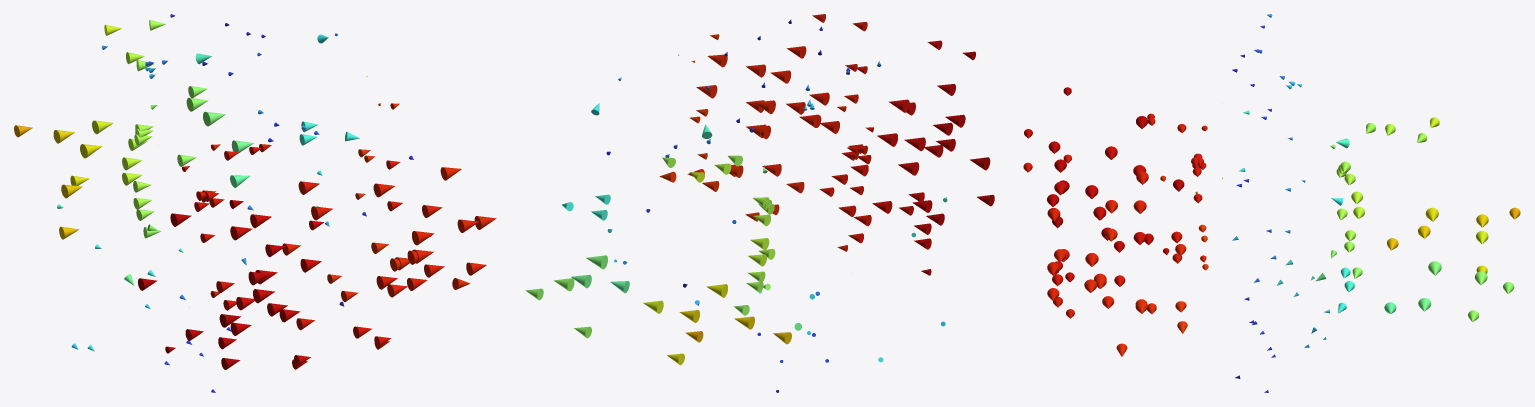
File: LineasCorrienteH2-O2_mh2-5.58_V-1.glb
The picture shows the model from 3 angles, left to right: view 1: azimuth 30°, elevation 25°; view 2: azimuth 150°, elevation 25°; view 3: azimuth 270°, elevation 25°; orthographic projection. The views are drawn at different scales.
Bounding box in the file's own units: 0.000909 × 0.000952 × 0.00123.
Materials: 2 (2 with a texture image).
